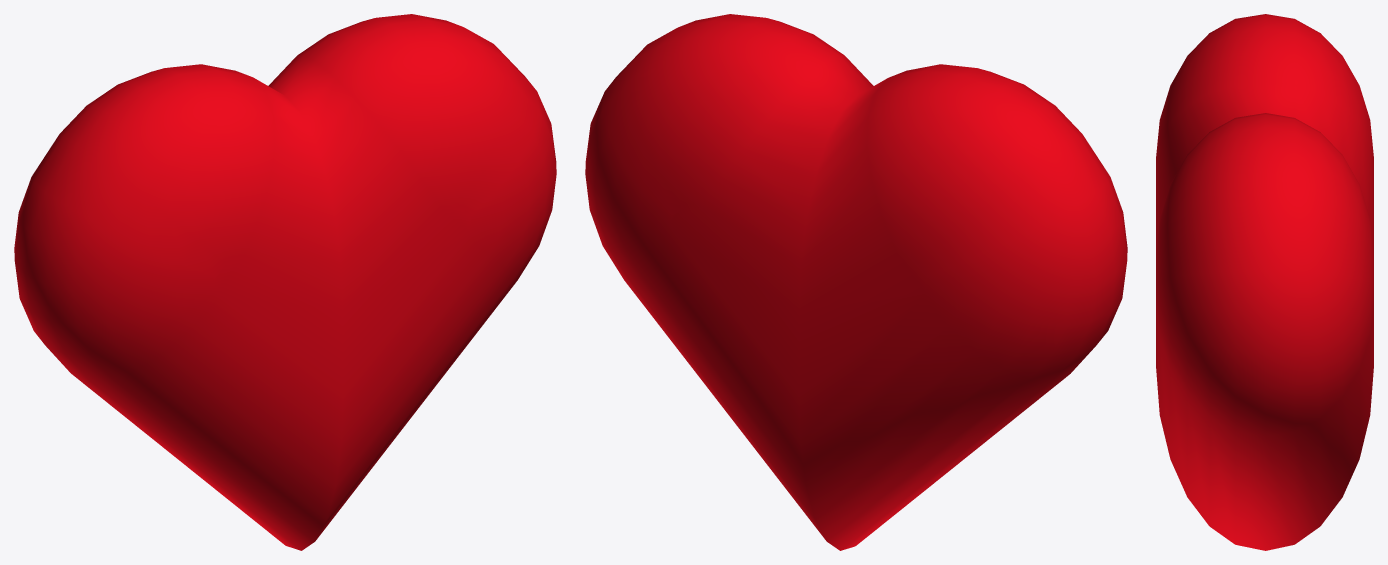
The model's file is heart.gltf.
3 views of the same model, side by side, from view 1: azimuth 30°, elevation 25°; view 2: azimuth 150°, elevation 25°; view 3: azimuth 270°, elevation 25° (orthographic). The views are drawn at different scales.
Visible parts, largest first — view 1: Cube; view 2: Cube; view 3: Cube.
Part boxes in pixels (x1,y1,x2,y2): Cube: [14, 14, 556, 550]; Cube: [585, 14, 1127, 550]; Cube: [1156, 14, 1373, 550].
Size of the model in its own units: 3.42 by 3.13 by 1.3.
